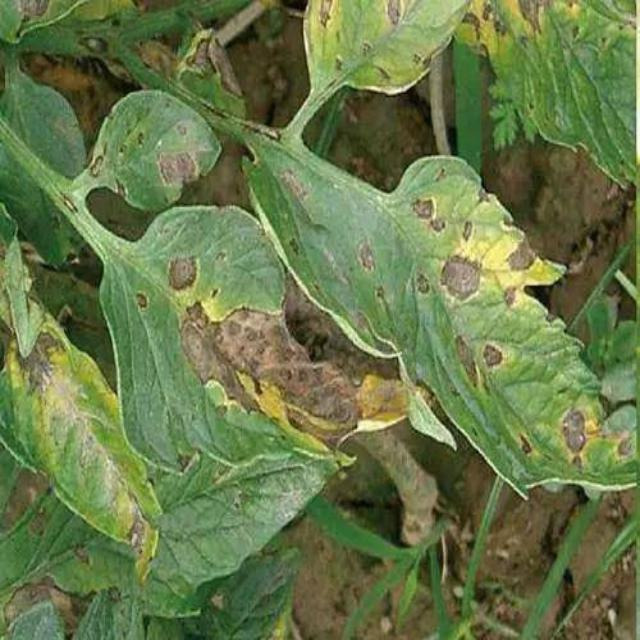Early_blight: (184, 300, 437, 453), (1, 319, 76, 404), (554, 403, 633, 468), (184, 36, 243, 101), (453, 331, 514, 391), (435, 254, 486, 307), (458, 1, 511, 51), (514, 1, 584, 34), (496, 228, 540, 277), (125, 495, 158, 558), (153, 149, 202, 187), (165, 252, 200, 293), (413, 192, 446, 235), (278, 166, 309, 203), (352, 240, 380, 274), (17, 1, 56, 21), (499, 282, 523, 308), (386, 1, 409, 28), (458, 217, 478, 248), (135, 289, 152, 309)
